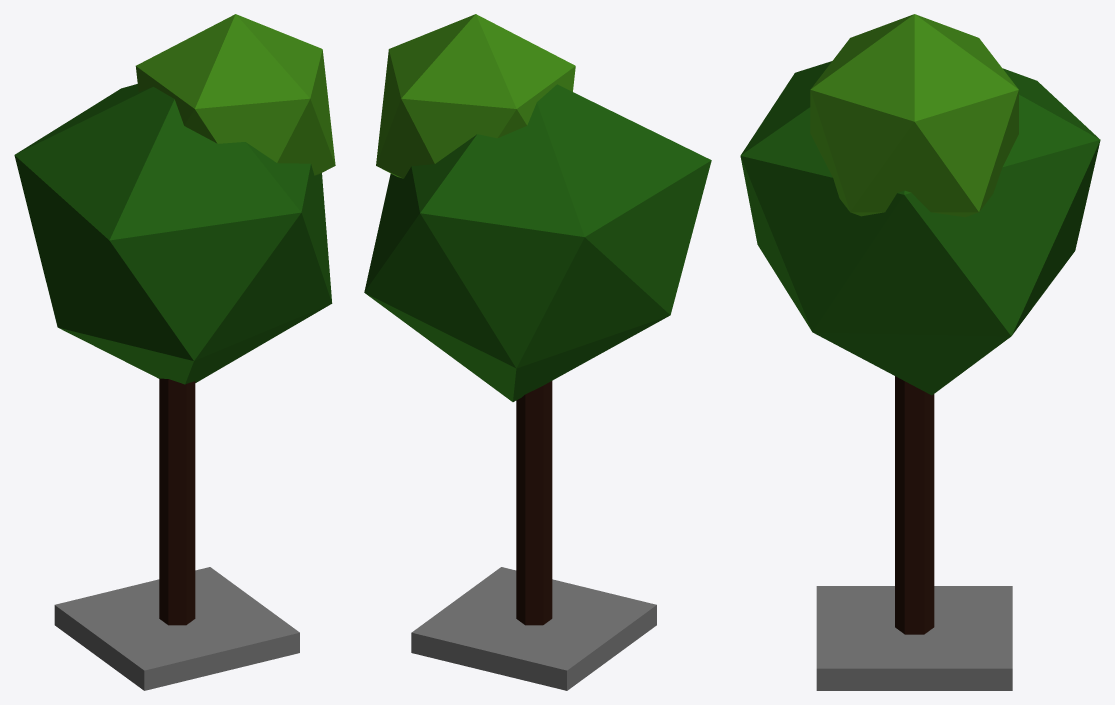
File: street_tree.obj
3 renders of one model, left to right at view 1: azimuth 30°, elevation 25°; view 2: azimuth 150°, elevation 25°; view 3: azimuth 270°, elevation 25°, orthographic. The views are drawn at different scales.
Visible parts, largest first — view 1: street_tree; view 2: street_tree; view 3: street_tree.
Part boxes in pixels (x1,y1,x2,y2): street_tree: (14, 14, 335, 690); street_tree: (364, 14, 711, 690); street_tree: (740, 14, 1100, 690).
Size of the model in its own units: 1.41 by 3 by 1.47.
